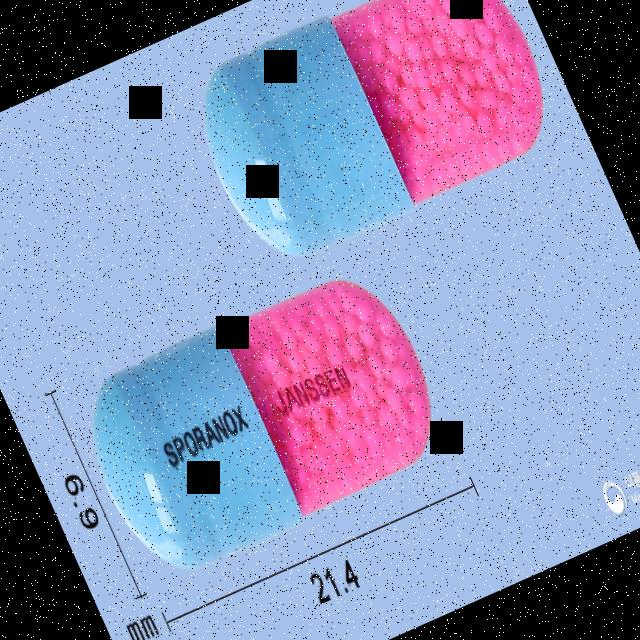Sporanox Cap: (64, 256, 460, 582)
